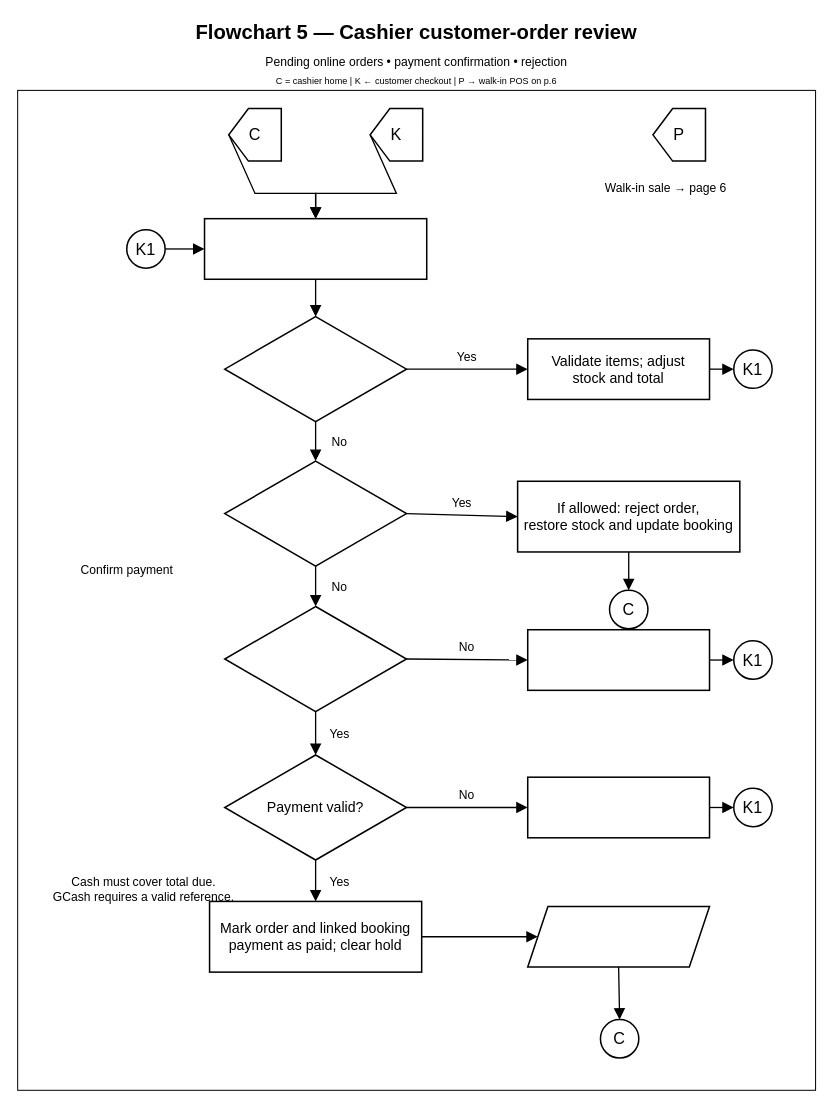
Image size: 833x1108. Some labels were removed from this diagram. Here are the shapes that lost their labels. From the top down, the centre of each, then its label:
At point 315,248: "Open pending customer order".
At point 315,368: "Edit order items?".
At point 315,513: "Reject order?".
At point 315,658: "Linked booking still active, if any?".
At point 618,660: "Show error; review booking status".
At point 618,807: "Correct payment details and retry".
At point 618,936: "Display official receipt".
